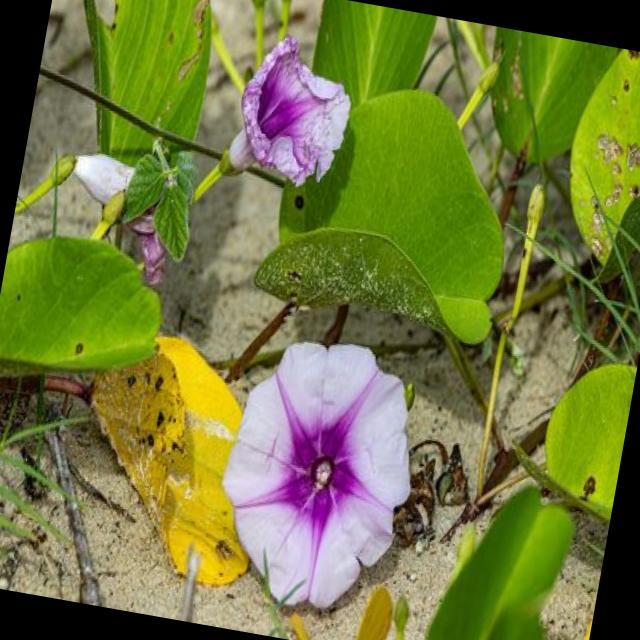ipomoea: (199, 320, 437, 628), (220, 25, 364, 201)
